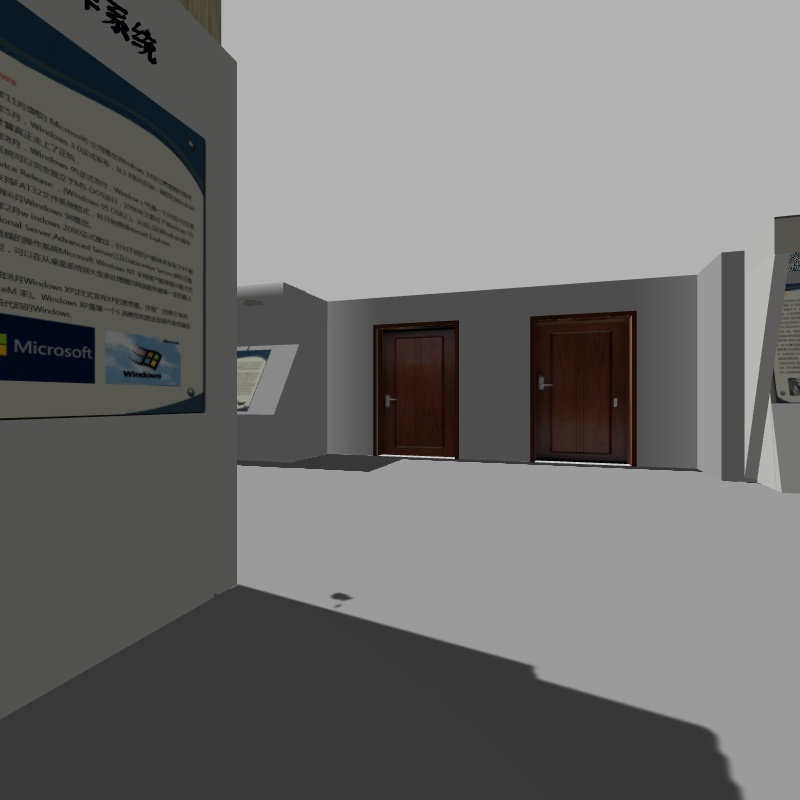handle: (530, 371, 556, 395), (379, 391, 401, 410)
